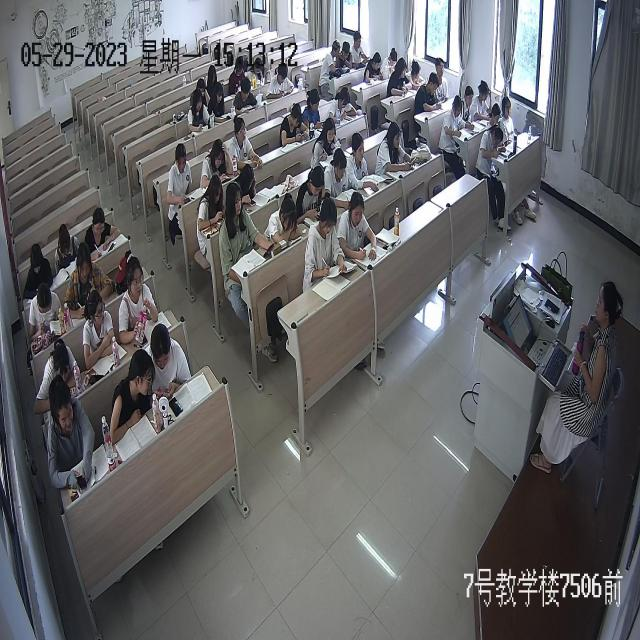distracted: (45, 380, 97, 492), (108, 348, 158, 446), (54, 223, 82, 274), (414, 72, 442, 116), (320, 37, 340, 79), (336, 40, 355, 76)
focused: (117, 254, 161, 350), (304, 200, 353, 286), (69, 242, 117, 318), (29, 344, 84, 407), (340, 192, 380, 270), (83, 290, 120, 366), (347, 130, 382, 200), (228, 112, 266, 176), (84, 205, 125, 259), (309, 117, 346, 176), (198, 177, 230, 242), (24, 240, 56, 297), (321, 149, 350, 207), (299, 163, 325, 223), (442, 91, 474, 139), (231, 73, 262, 118), (207, 80, 231, 128), (478, 125, 508, 163), (499, 95, 518, 146), (390, 56, 413, 94), (267, 67, 296, 97), (474, 79, 493, 124), (349, 30, 370, 69), (363, 49, 384, 87), (434, 56, 449, 107), (230, 52, 248, 94), (460, 82, 475, 128), (249, 53, 265, 85), (385, 46, 401, 75)
sleep: (266, 191, 305, 251)
using_phone: (220, 180, 276, 268), (149, 324, 189, 407), (374, 120, 418, 178), (28, 286, 62, 342), (167, 144, 194, 210), (202, 143, 237, 190), (280, 100, 310, 148), (328, 87, 361, 128), (188, 88, 216, 135), (306, 88, 328, 132), (407, 57, 432, 91)
